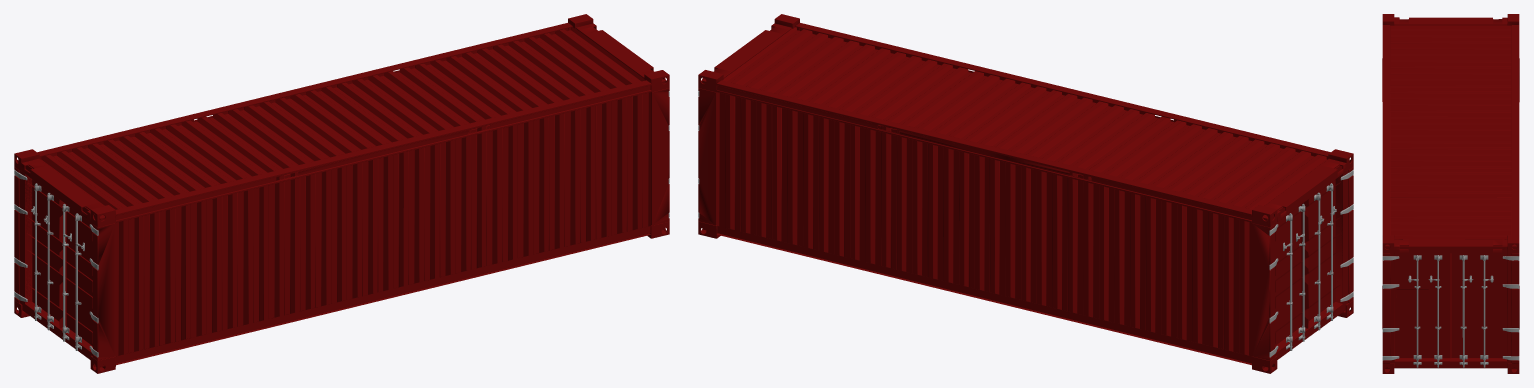
Rendered from container.glb.
The picture shows the model from 3 angles, left to right: view 1: azimuth 30°, elevation 25°; view 2: azimuth 150°, elevation 25°; view 3: azimuth 270°, elevation 25°; orthographic projection. The views are drawn at different scales.
Visible parts, largest first — view 1: Cube_Material.001_0; view 2: Cube_Material.001_0; view 3: Cube_Material.001_0.
Boxes of the visible parts, left/top/right/bottom form: Cube_Material.001_0: left=14, top=14, right=669, bottom=373; Cube_Material.001_0: left=698, top=14, right=1353, bottom=373; Cube_Material.001_0: left=1382, top=14, right=1519, bottom=373.
Size of the model in its own units: 8.21 by 2.18 by 2.07.
